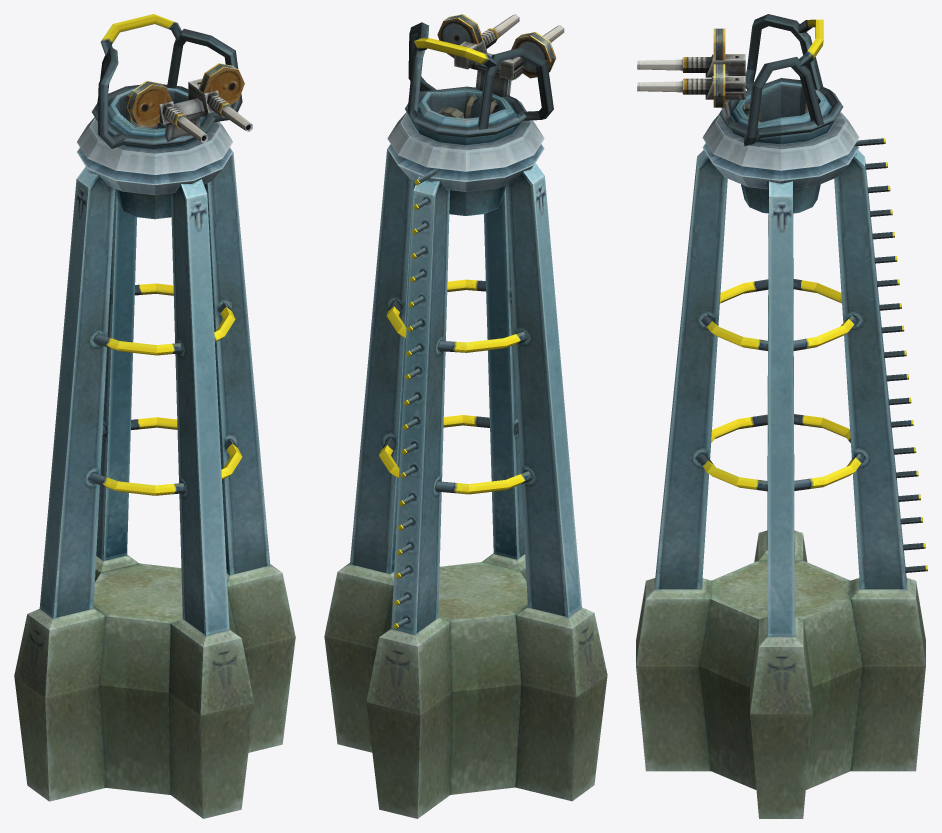
The model's file is VXMGTOWER_H.bgf.obj.
3 views of the same model, side by side, from view 1: azimuth 30°, elevation 25°; view 2: azimuth 150°, elevation 25°; view 3: azimuth 270°, elevation 25° (orthographic).
Parts seen in each view (by area): view 1: VXMGTOWER, TURRET, BARREL01; view 2: VXMGTOWER, TURRET, BARREL01; view 3: VXMGTOWER, TURRET, BARREL01.
Part boxes in pixels (<box>): VXMGTOWER: <box>14,147,295,818</box>; TURRET: <box>77,14,242,219</box>; BARREL01: <box>126,63,252,142</box>; VXMGTOWER: <box>324,144,607,818</box>; TURRET: <box>387,22,553,215</box>; BARREL01: <box>437,14,564,80</box>; VXMGTOWER: <box>636,138,927,818</box>; TURRET: <box>702,14,859,213</box>; BARREL01: <box>637,28,745,107</box>.
Size of the model in its own units: 4.75 by 13.24 by 4.78.
3 materials, 3 textured.
